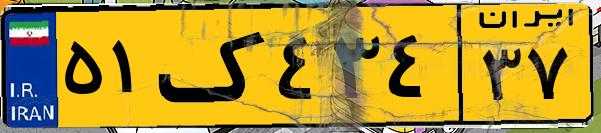1: (110, 28, 158, 98)
3: (330, 28, 385, 110), (475, 38, 525, 113)
4: (270, 28, 330, 110), (385, 28, 445, 110)
5: (57, 26, 110, 100)
7: (525, 38, 570, 115)
ک: (158, 12, 270, 120)
